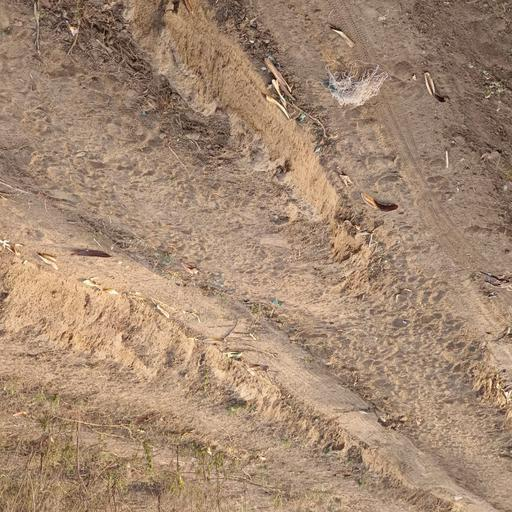vehicle_track: (0, 165, 502, 512), (252, 0, 512, 375)
